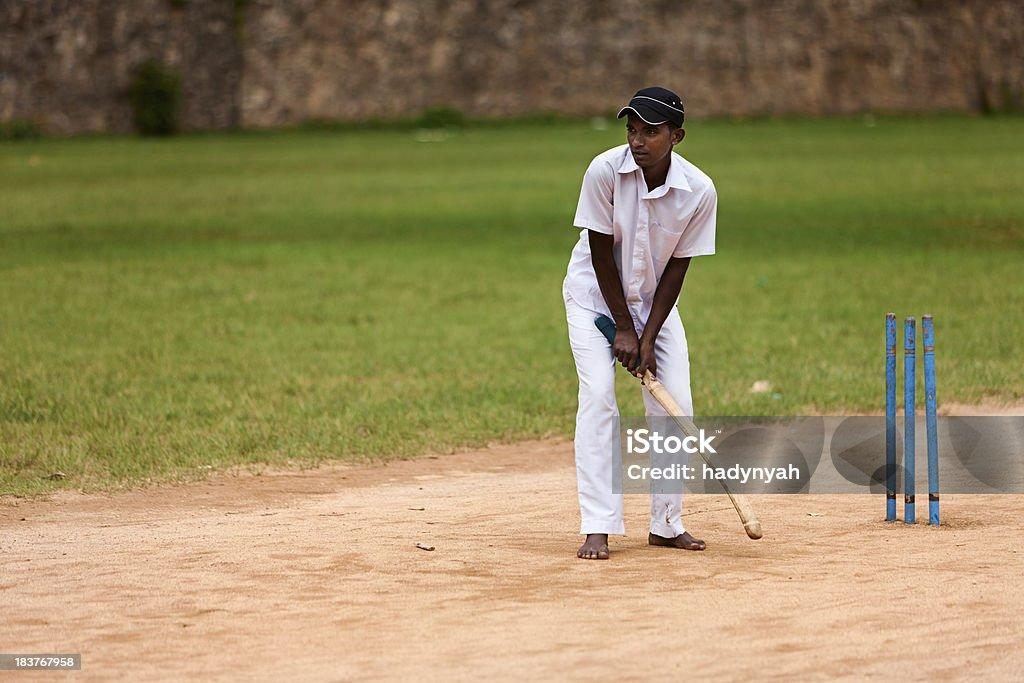batsman: (553, 73, 715, 549)
